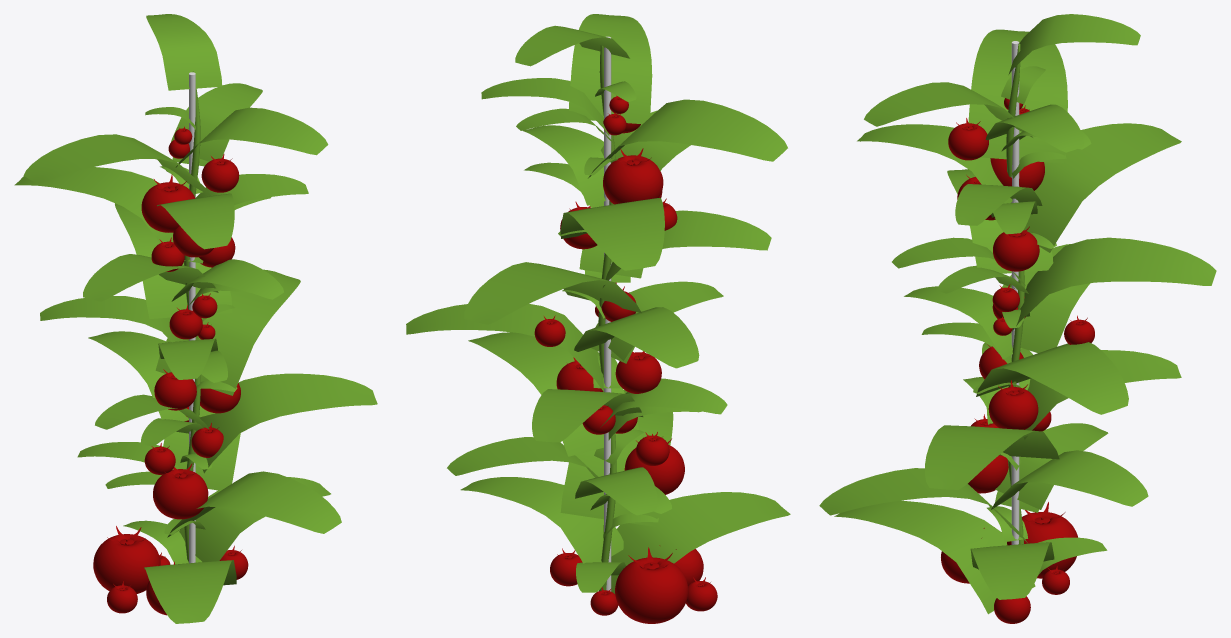
Rendered from tomatoesPlant_Mode.fbx.
3 renders of one model, left to right at view 1: azimuth 30°, elevation 25°; view 2: azimuth 150°, elevation 25°; view 3: azimuth 270°, elevation 25°, orthographic. The views are drawn at different scales.
Parts seen in each view (by area): view 1: leaves, tomatoes, stem, stick; view 2: leaves, tomatoes, stick, stem; view 3: leaves, tomatoes, stick, stem.
Boxes of the visible parts, box(x1,y1,x2,y2) form: leaves: box(14, 14, 377, 623); tomatoes: box(93, 126, 248, 615); stem: box(184, 71, 200, 562); stick: box(189, 72, 195, 563); leaves: box(406, 14, 790, 593); tomatoes: box(534, 95, 717, 623); stick: box(604, 36, 611, 591); stem: box(598, 45, 616, 590); leaves: box(819, 14, 1216, 614); tomatoes: box(941, 98, 1094, 623); stick: box(1011, 41, 1019, 544); stem: box(1006, 43, 1024, 544).
Bounding box in the file's own units: 5.15 × 5.16 × 8.39.
